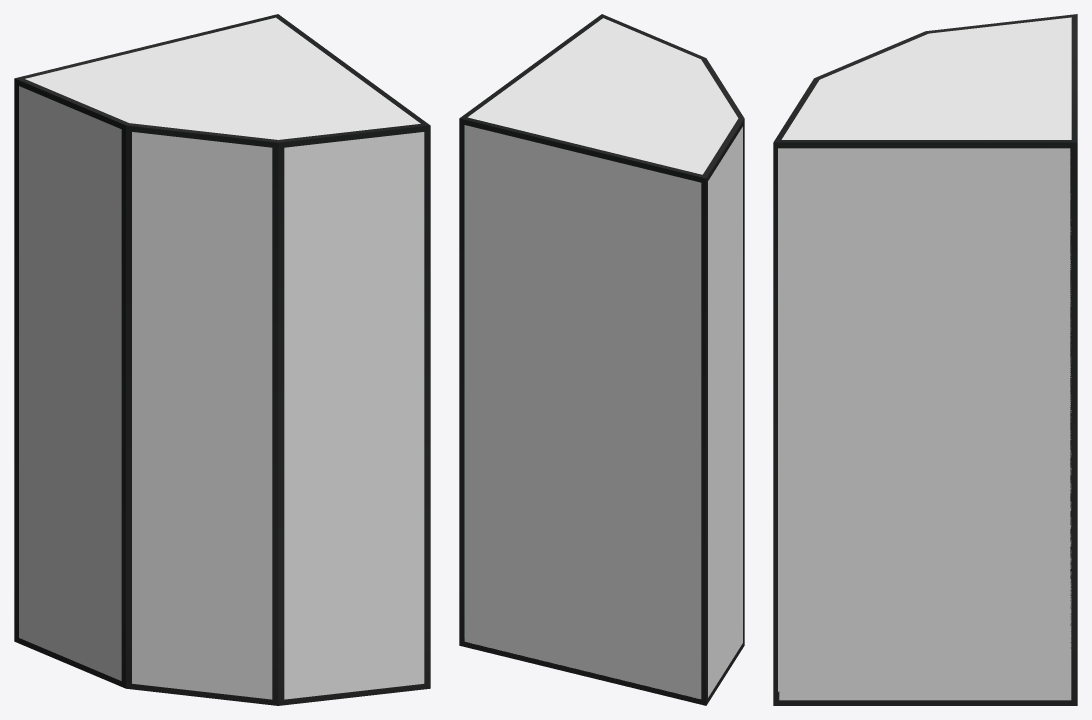
Rendered from Counter_Display_Case_Small.FBX.
The picture shows the model from 3 angles, left to right: view 1: azimuth 30°, elevation 25°; view 2: azimuth 150°, elevation 25°; view 3: azimuth 270°, elevation 25°; orthographic projection. The views are drawn at different scales.
Parts seen in each view (by area): view 1: Counter_Display_Case_2; view 2: Doors_003, Counter_Display_Case_2, Doors_2; view 3: Doors_2, Counter_Display_Case_2.
Part boxes in pixels (left/top/right/bottom): Counter_Display_Case_2: left=14, top=14, right=430, bottom=705; Doors_003: left=464, top=125, right=701, bottom=699; Counter_Display_Case_2: left=459, top=14, right=744, bottom=705; Doors_2: left=464, top=125, right=464, bottom=638; Doors_2: left=779, top=148, right=1071, bottom=700; Counter_Display_Case_2: left=773, top=14, right=1077, bottom=705.
Bounding box in the file's own units: 112 × 229 × 112.
